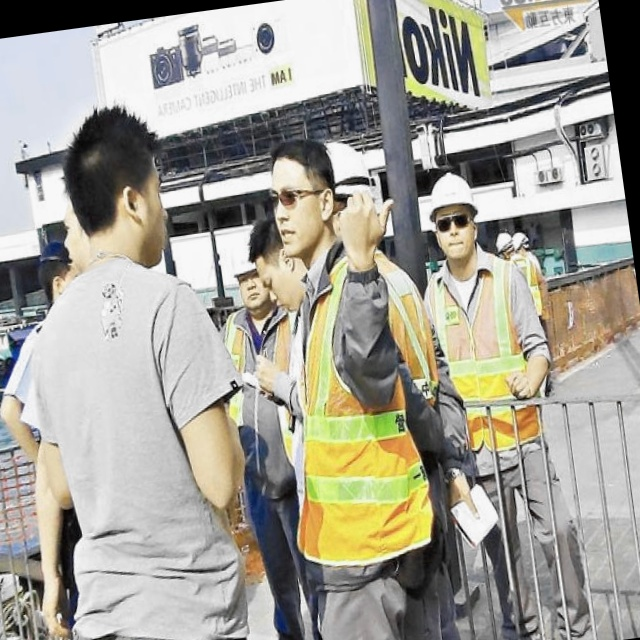Con_Chaleco: (260, 245, 432, 565), (427, 253, 535, 453)
Sin_Casco_Mascarrilla: (60, 99, 173, 276), (262, 139, 341, 250)
